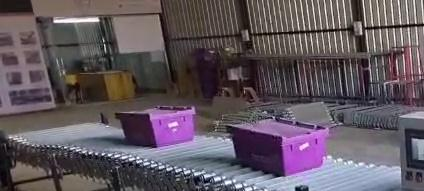box: (231, 119, 328, 175), (115, 106, 194, 146)
